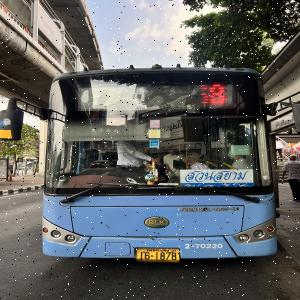BMTA-bus: (40, 66, 279, 264)
Bus Line Number: (191, 82, 235, 108)
Bus Side Number: (182, 242, 225, 252)
Destination Sign: (178, 170, 255, 187)
